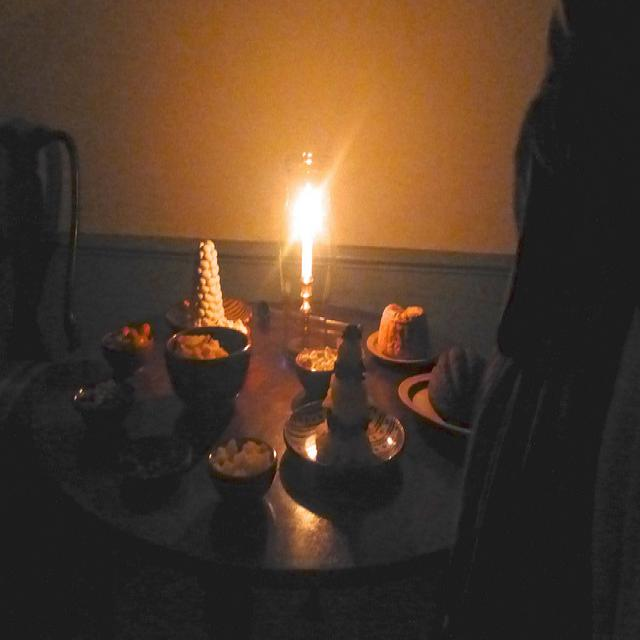Table: (21, 271, 537, 640)
chair: (0, 101, 95, 405)
